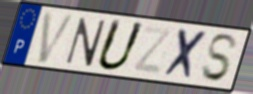N: (63, 16, 108, 69)
S: (199, 33, 239, 84)
U: (94, 17, 147, 73)
V: (36, 11, 78, 65)
X: (161, 27, 211, 82)
Z: (131, 24, 175, 76)
